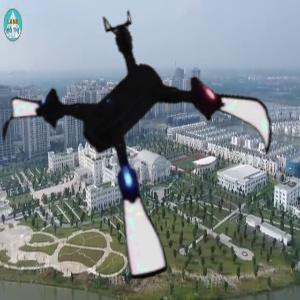drone: (1, 7, 281, 287)
